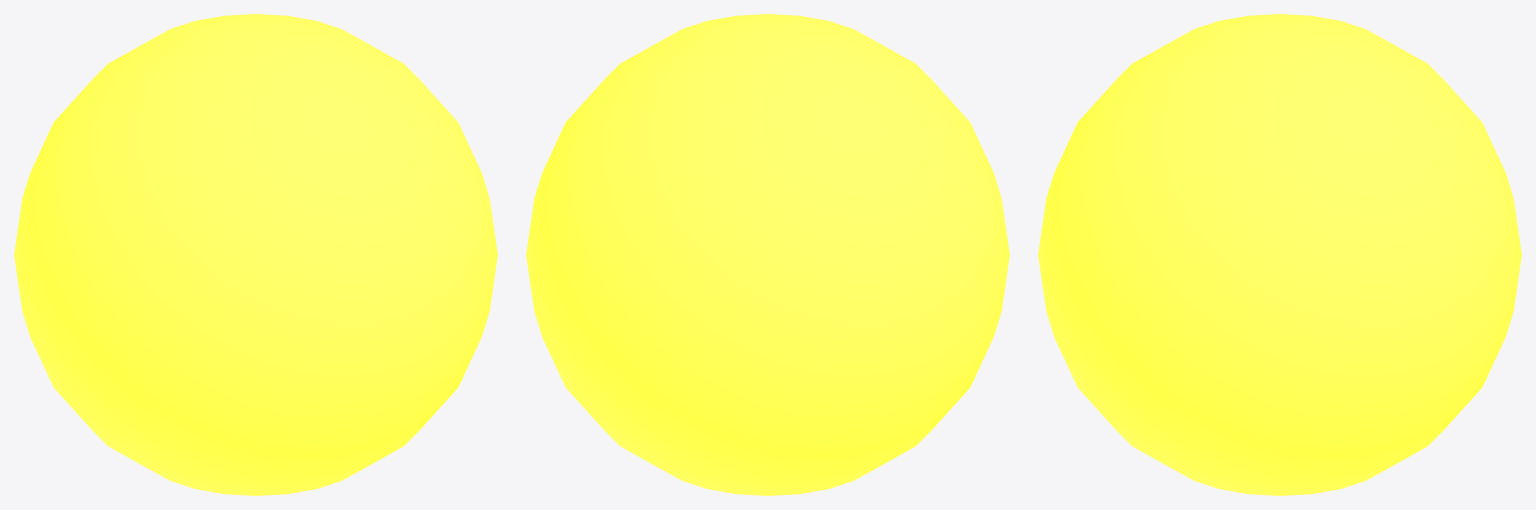
The model's file is Building_TheGC_Optimized_GLTF.glb.
3 renders of one model, left to right at view 1: azimuth 30°, elevation 25°; view 2: azimuth 150°, elevation 25°; view 3: azimuth 270°, elevation 25°, orthographic.
Parts seen in each view (by area): view 1: Sphere; view 2: Sphere; view 3: Sphere.
Boxes of the visible parts, x1,y1,x2,y2 form: Sphere: [14, 14, 497, 495]; Sphere: [526, 14, 1009, 495]; Sphere: [1038, 14, 1521, 495].
Size of the model in its own units: 200000 by 200000 by 200000.
